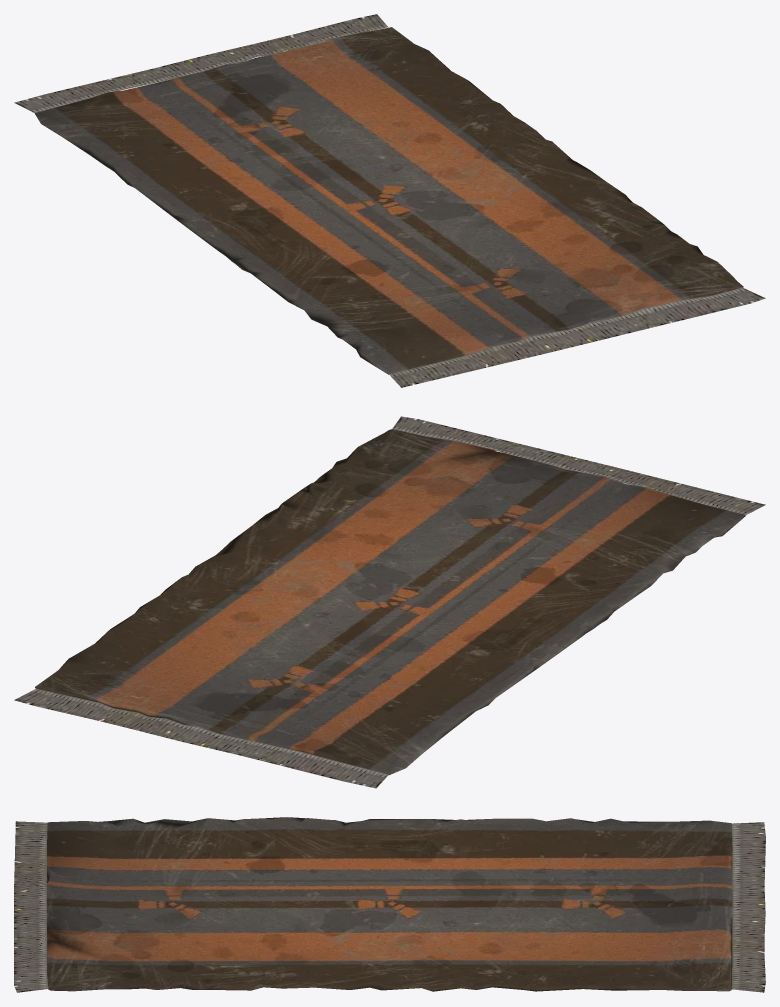
Rendered from rug.glb.
The picture shows the model from 3 angles, top to bottom: view 1: azimuth 30°, elevation 25°; view 2: azimuth 150°, elevation 25°; view 3: azimuth 270°, elevation 25°; orthographic projection. The views are drawn at different scales.
Visible parts, largest first — view 1: rug; view 2: rug; view 3: rug.
Part boxes in pixels (<box>): rug: <box>14,14,765,387</box>; rug: <box>14,416,765,788</box>; rug: <box>14,817,765,992</box>.
Size of the model in its own units: 1.78 by 0.0307 by 3.29.
1 material, 1 textured.
